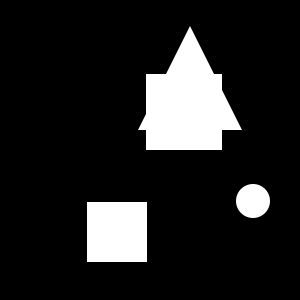circle: (146, 74, 222, 150), (87, 202, 147, 262)
rectangle: (236, 184, 270, 218)
triangle: (138, 26, 242, 130)
